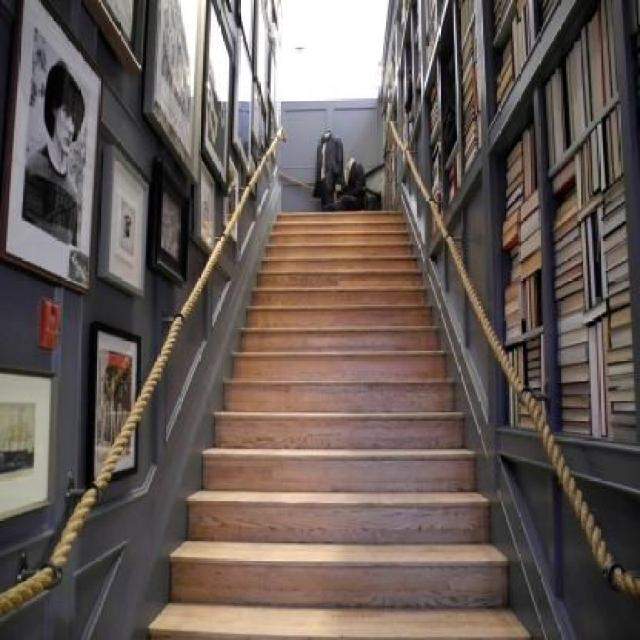stair: (146, 206, 532, 640)
